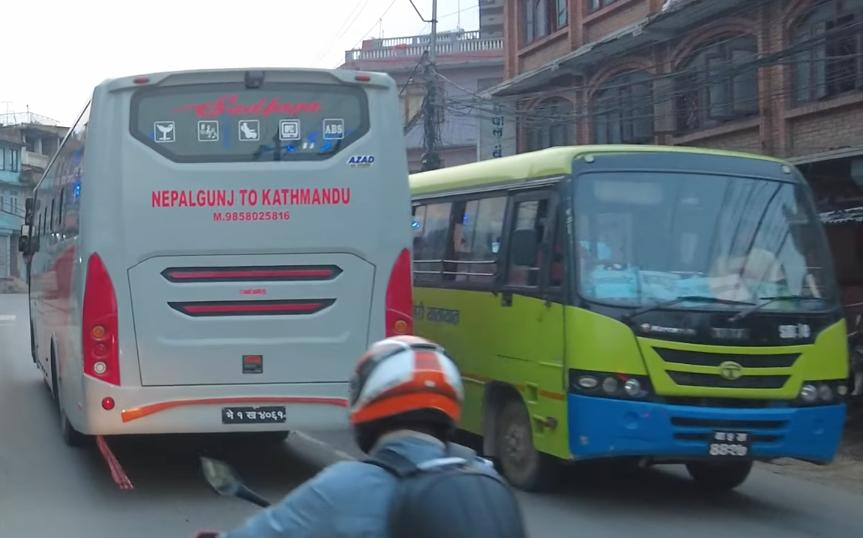bus: (388, 134, 863, 499), (15, 56, 422, 455)
